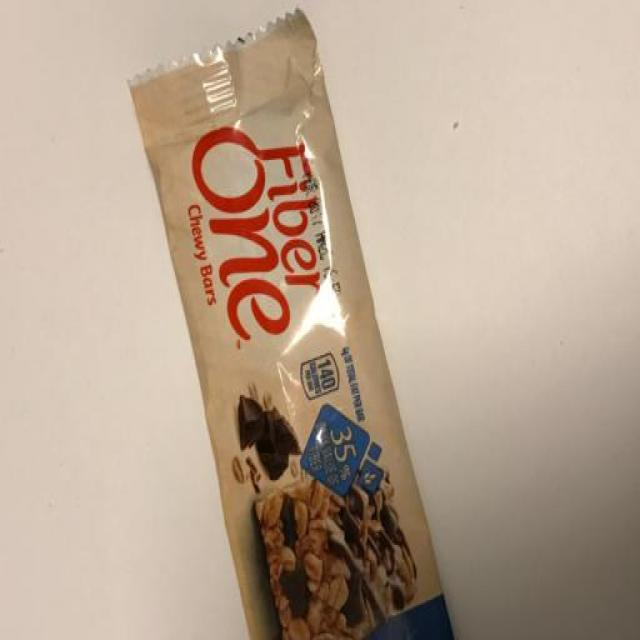plastic: (96, 1, 521, 640)
